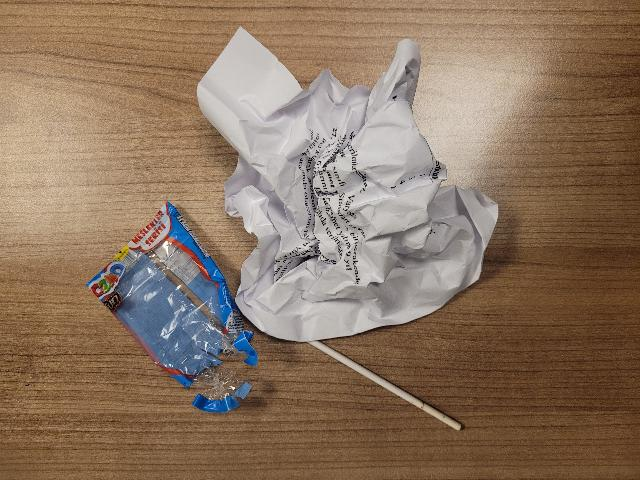Kagit: (194, 22, 498, 342), (305, 338, 463, 432)
Plastik: (83, 197, 260, 416)
